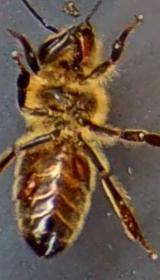varroa_mite: (3, 168, 48, 207), (60, 143, 96, 184)
